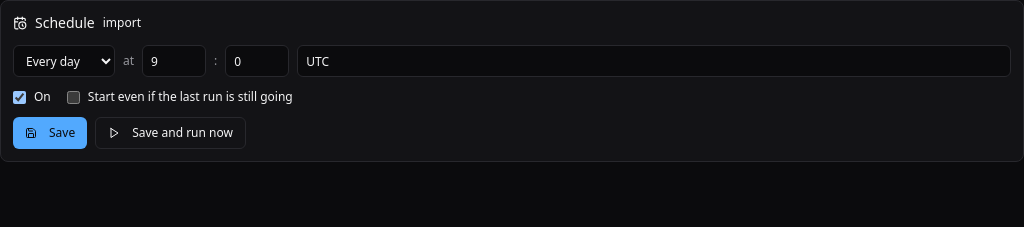
Test: saving a schedule › reports the refusal with every problem the server named
This screenshot has width=1024, height=227.
Expected: the number field named "Schedule hour" holds "9", top-left (142, 45), bottom-right (206, 77)
Click the button "Save". click: click(50, 133)
box: top-left (13, 117), bottom-right (87, 149)
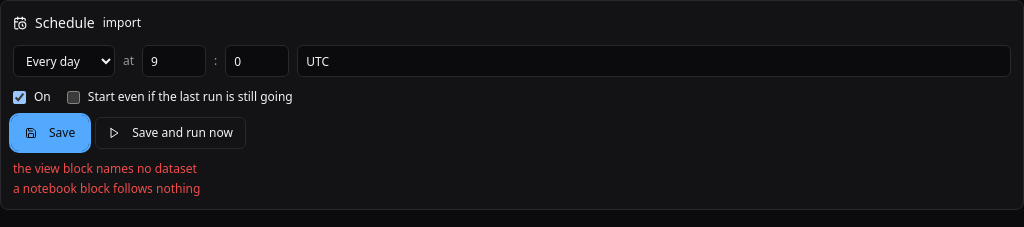
Expected: the list item "the view block names no dataset" is shown, top-left (13, 160), bottom-right (197, 177)
Expected: the list item "a notebook block follows nothing" is shown, top-left (13, 180), bottom-right (200, 197)
